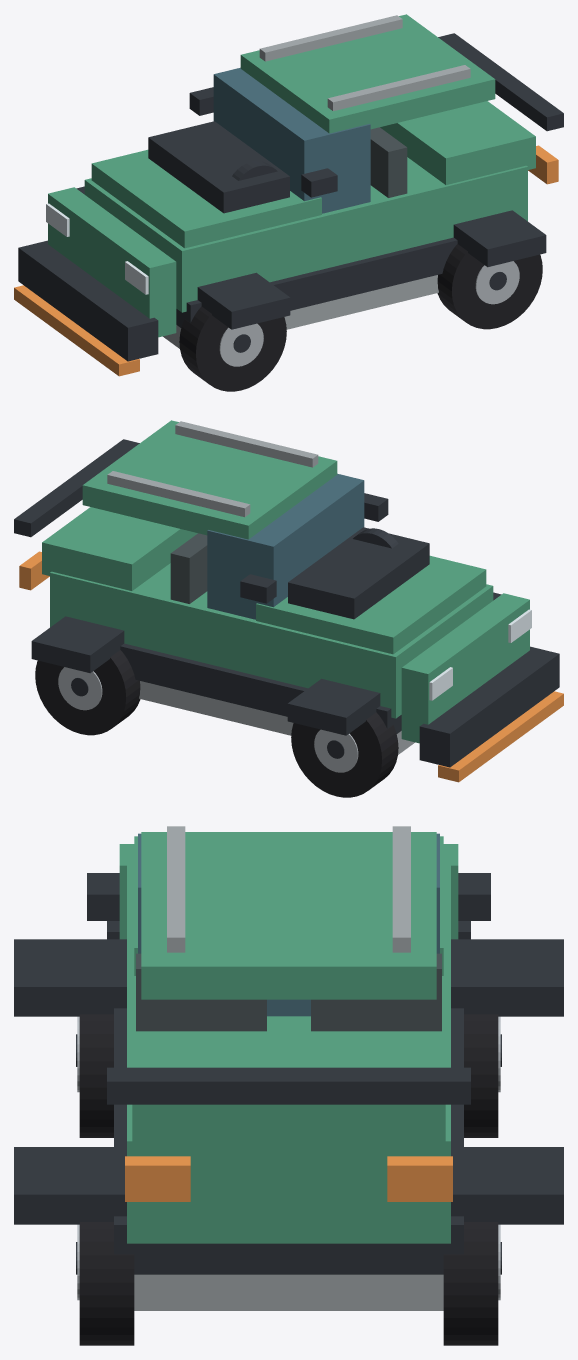
File: ESF_V2_Rugged_Electric_Crossover_ThreeJS_YUp.glb
The picture shows the model from 3 angles, top to bottom: view 1: azimuth 30°, elevation 25°; view 2: azimuth 150°, elevation 25°; view 3: azimuth 270°, elevation 25°; orthographic projection. The views are drawn at different scales.
Visible parts, largest first — view 1: Body Shell, Roof, Windshield Glass, Front Hood, Front Fascia, Rear Deck Cover, Front Bumper, Dashboard Console, Lower Body Sill, Wheel_Front_Left, Wheel_Rear_Left, Rear Left Wheel Arch (+15 smaller); view 2: Body Shell, Roof, Windshield Glass, Front Hood, Front Fascia, Rear Deck Cover, Front Bumper, Dashboard Console, Lower Body Sill, Wheel_Front_Right, Wheel_Rear_Right, Rear Right Wheel Arch (+15 smaller); view 3: Roof, Rear Deck Cover, Body Shell, Rear Spoiler Blade, Lower Body Sill, Chassis Frame, Front Left Wheel Arch, Front Right Wheel Arch, Rear Left Wheel Arch, Rear Right Wheel Arch, Wheel_Rear_Left, Wheel_Rear_Right (+13 smaller).
Part boxes in pixels (<box>): Body Shell: <box>84,157,527,312</box>; Roof: <box>240,14,495,133</box>; Windshield Glass: <box>213,67,370,213</box>; Front Hood: <box>91,149,321,248</box>; Front Fascia: <box>48,187,176,337</box>; Rear Deck Cover: <box>380,101,535,184</box>; Front Bumper: <box>18,240,158,361</box>; Dashboard Console: <box>148,121,289,213</box>; Lower Body Sill: <box>176,237,457,327</box>; Wheel_Front_Left: <box>179,306,286,391</box>; Wheel_Rear_Left: <box>437,244,542,329</box>; Rear Left Wheel Arch: <box>453,210,546,267</box>; Body Shell: <box>50,563,493,718</box>; Roof: <box>82,420,337,539</box>; Windshield Glass: <box>207,473,364,619</box>; Front Hood: <box>256,555,486,654</box>; Front Fascia: <box>401,593,529,743</box>; Rear Deck Cover: <box>42,507,197,590</box>; Front Bumper: <box>419,646,559,767</box>; Dashboard Console: <box>288,527,429,619</box>; Lower Body Sill: <box>120,643,401,733</box>; Wheel_Front_Right: <box>291,712,398,797</box>; Wheel_Rear_Right: <box>35,650,140,735</box>; Rear Right Wheel Arch: <box>31,616,124,673</box>; Roof: <box>141,832,436,999</box>; Rear Deck Cover: <box>132,1031,445,1157</box>; Body Shell: <box>127,860,450,1243</box>; Rear Spoiler Blade: <box>107,1067,470,1104</box>; Lower Body Sill: <box>114,1008,463,1274</box>; Chassis Frame: <box>134,1274,443,1310</box>; Front Left Wheel Arch: <box>14,939,126,1016</box>; Front Right Wheel Arch: <box>451,939,563,1016</box>; Rear Left Wheel Arch: <box>14,1147,126,1224</box>; Rear Right Wheel Arch: <box>451,1147,563,1224</box>; Wheel_Rear_Left: <box>79,1222,134,1345</box>; Wheel_Rear_Right: <box>443,1222,498,1345</box>.
Size of the model in its own units: 4.67 by 2.42 by 3.02.
